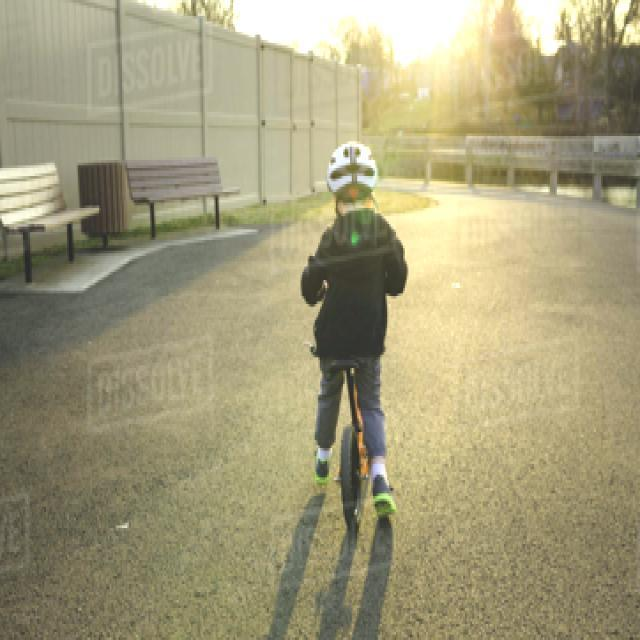Helmet: (318, 122, 382, 222)
